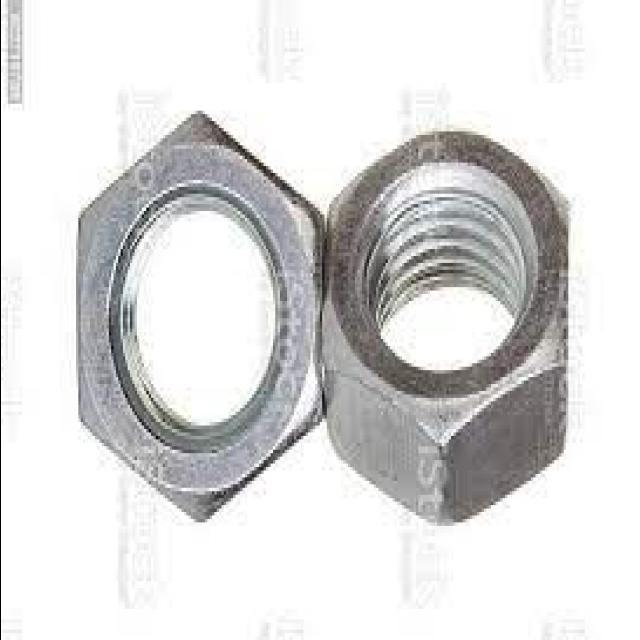nut: (75, 115, 321, 523), (324, 133, 568, 522)
